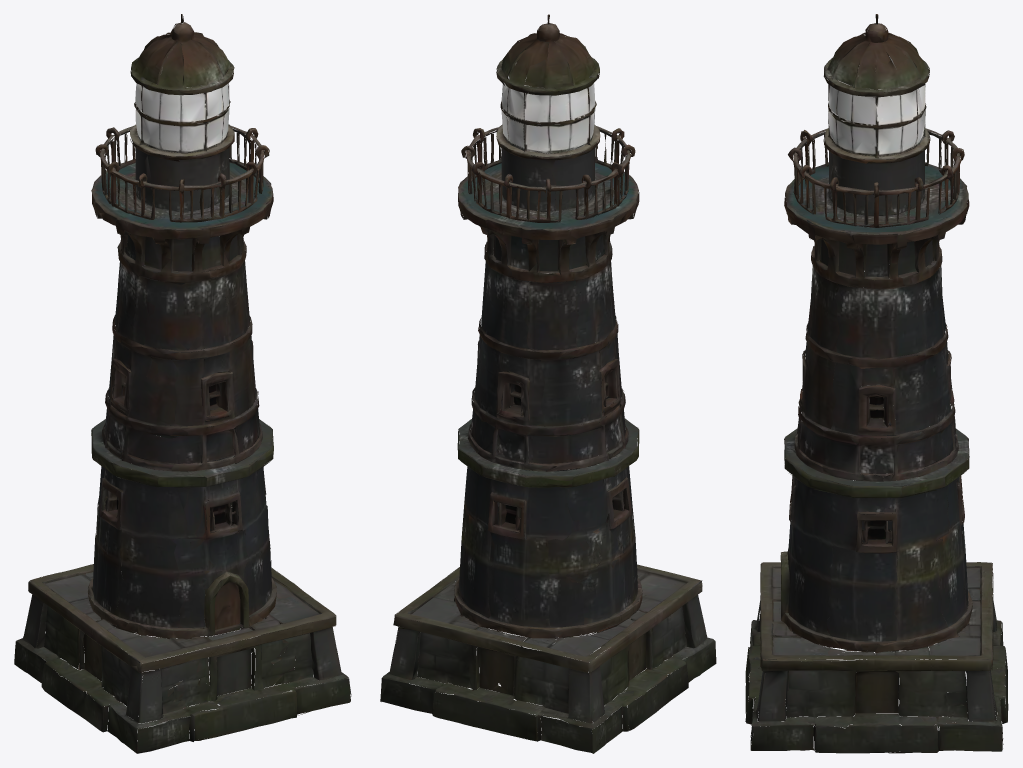
Rendered from lighthouse.glb.
The picture shows the model from 3 angles, left to right: view 1: azimuth 30°, elevation 25°; view 2: azimuth 150°, elevation 25°; view 3: azimuth 270°, elevation 25°; orthographic projection. The views are drawn at different scales.
Parts seen in each view (by area): view 1: world; view 2: world; view 3: world.
Boxes of the visible parts, x1=… form: world: x1=14, y1=14, x2=351, y2=753; world: x1=380, y1=14, x2=716, y2=753; world: x1=745, y1=14, x2=1008, y2=753.
Bounding box in the file's own units: 0.3481 × 1 × 0.3483.
1 material, 1 textured.
